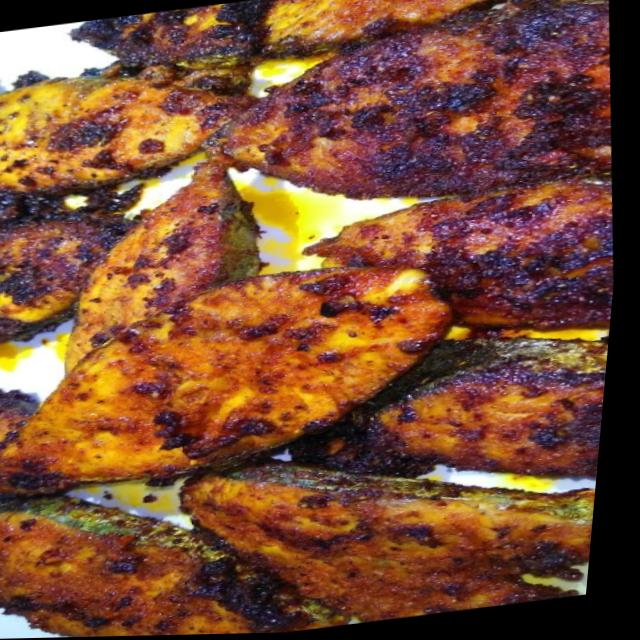FISH FRY: (0, 0, 610, 637)
